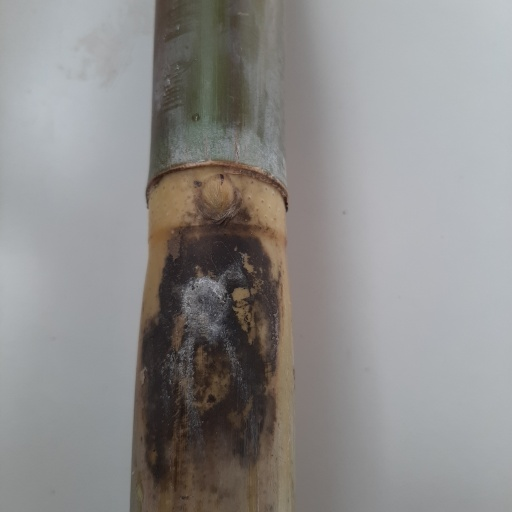Bud: (194, 172, 239, 219)
